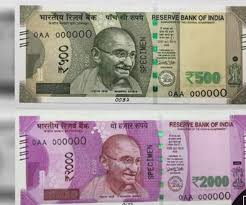twoThousand: (34, 135, 235, 192)
